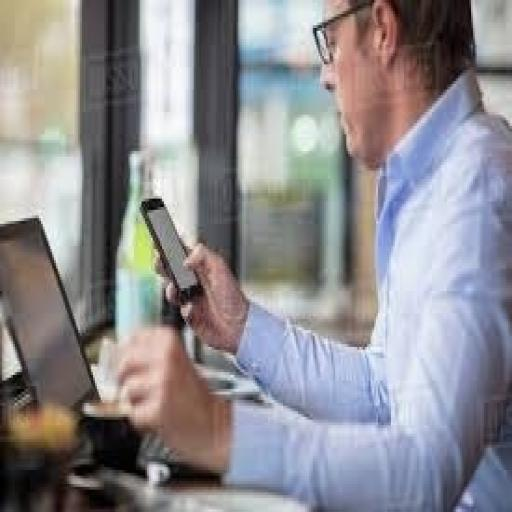texting: (112, 0, 510, 509)
